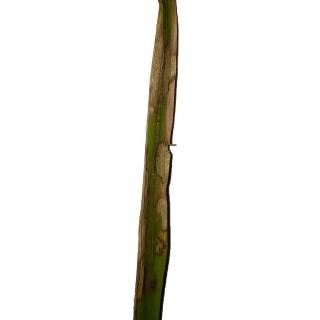Hawar-Daun: (151, 0, 189, 138), (150, 142, 168, 276)
